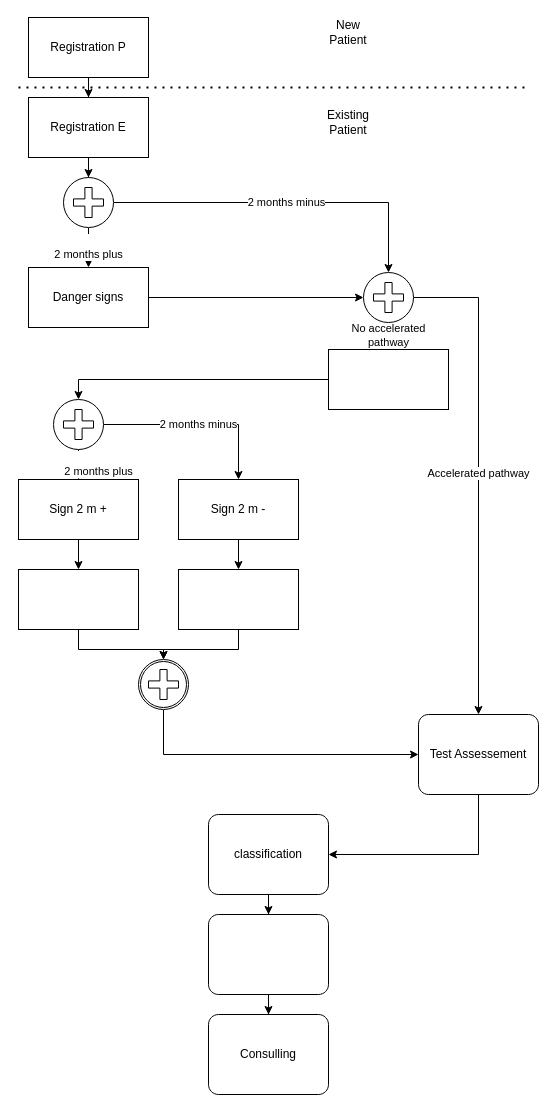
Image size: 556x1112. Some labels were removed from this diagram. Here are the shapes that lost their labels. From the top down, the box of each, then its label:
(328, 348, 448, 410): Measures
(18, 568, 138, 630): symptoms 2 m +
(178, 568, 298, 630): symptoms 2 m -
(208, 914, 328, 994): treatment
